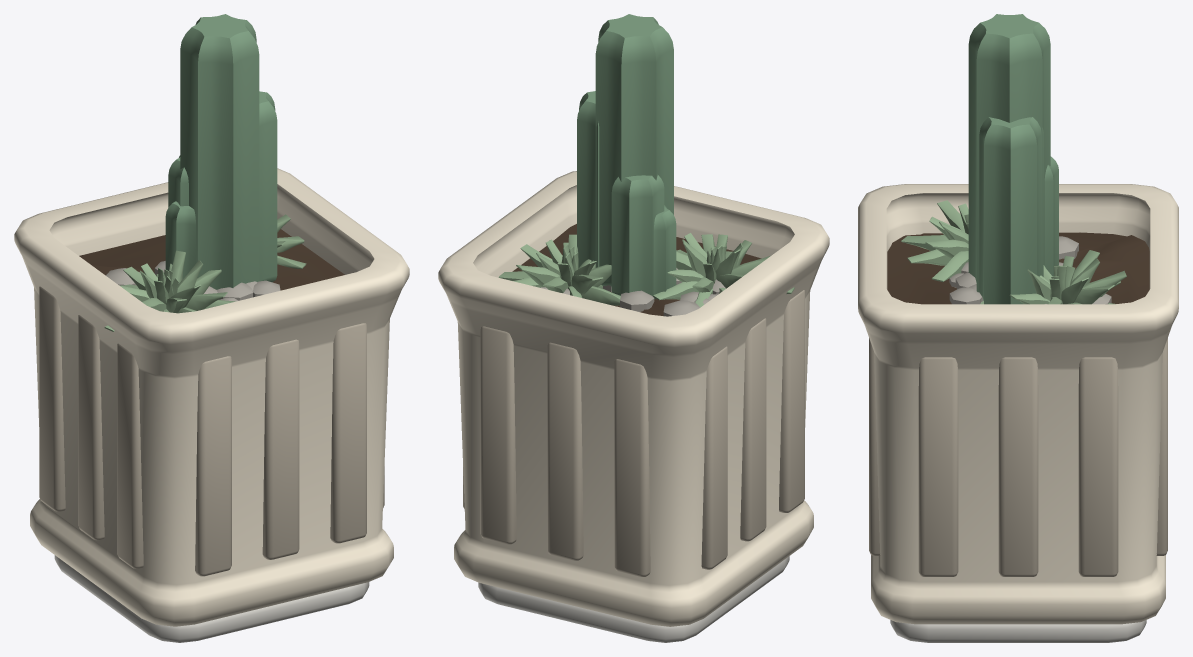
The model's file is bac_cactus.glb.
3 views of the same model, side by side, from view 1: azimuth 30°, elevation 25°; view 2: azimuth 150°, elevation 25°; view 3: azimuth 270°, elevation 25° (orthographic). The views are drawn at different scales.
Visible parts, largest first — view 1: VRD_Pot_Creme, VRD_Nervures, VRD_Cactus, VRD_Embase, VRD_Grasse, VRD_Terre, VRD_Galets; view 2: VRD_Pot_Creme, VRD_Nervures, VRD_Cactus, VRD_Grasse, VRD_Embase, VRD_Galets, VRD_Terre; view 3: VRD_Pot_Creme, VRD_Nervures, VRD_Cactus, VRD_Terre, VRD_Grasse, VRD_Embase, VRD_Galets.
Boxes of the visible parts, box(x1,y1,x2,y2) form: VRD_Pot_Creme: box(14, 168, 409, 626); VRD_Nervures: box(39, 286, 384, 576); VRD_Cactus: box(165, 14, 277, 289); VRD_Embase: box(54, 555, 369, 642); VRD_Grasse: box(104, 214, 306, 331); VRD_Terre: box(79, 229, 344, 290); VRD_Galets: box(106, 261, 280, 301); VRD_Pot_Creme: box(438, 171, 829, 626); VRD_Nervures: box(463, 290, 804, 576); VRD_Cactus: box(577, 14, 676, 298); VRD_Grasse: box(498, 233, 794, 307); VRD_Embase: box(478, 556, 789, 642); VRD_Galets: box(540, 268, 725, 316); VRD_Terre: box(512, 224, 761, 315); VRD_Pot_Creme: box(858, 184, 1178, 624); VRD_Nervures: box(869, 338, 1167, 576); VRD_Cactus: box(968, 14, 1058, 304); VRD_Terre: box(887, 232, 1149, 304); VRD_Grasse: box(901, 200, 1126, 304); VRD_Embase: box(890, 620, 1146, 642); VRD_Galets: box(949, 236, 1111, 304).
Bounding box in the file's own units: 0.5 × 0.9781 × 0.5.
